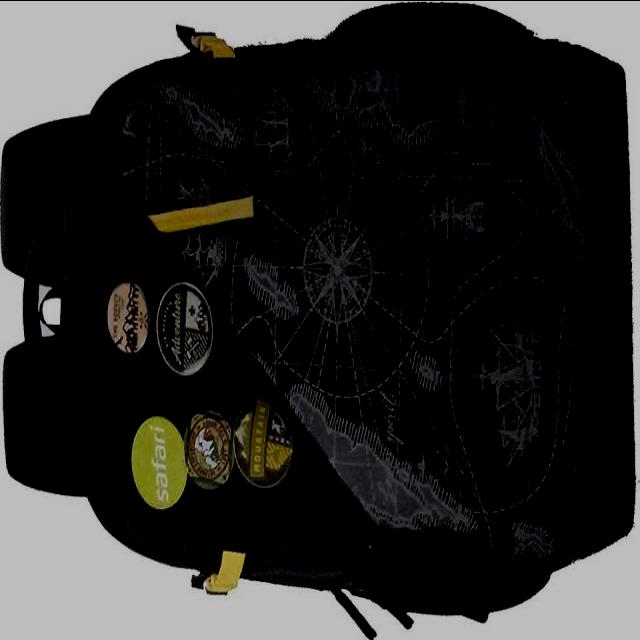backpack: (2, 4, 636, 639)
